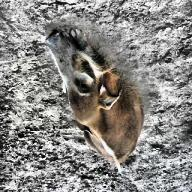boar: (44, 26, 145, 173)
